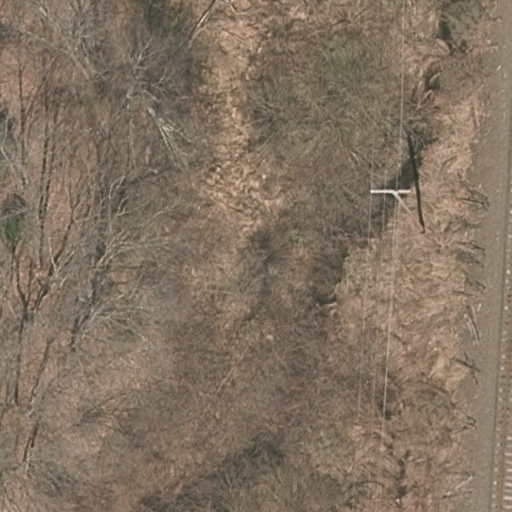DT: (373, 183, 420, 226)
